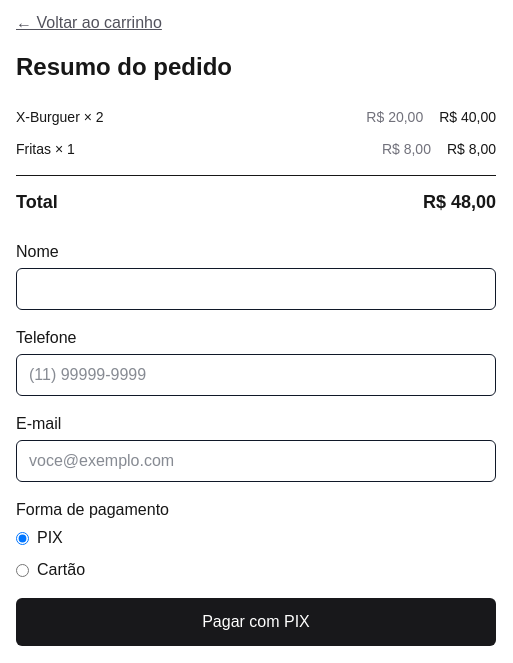
CheckoutPage › applies partial phone mask while typing
In the field labelled "Telefone": (256,375) [16,354,496,396], type "119"
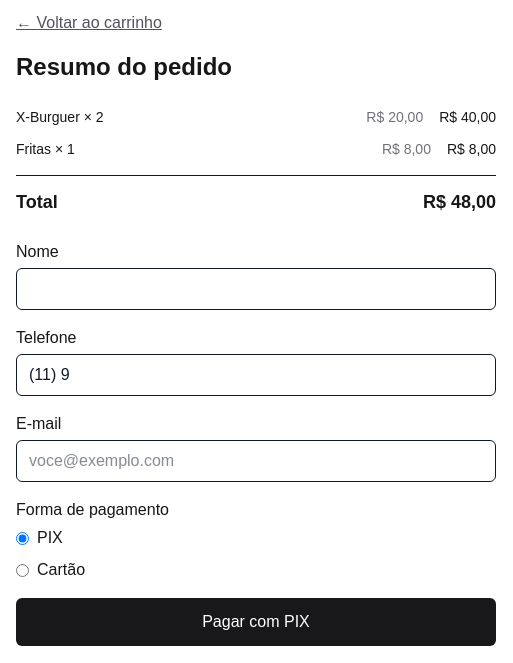
expect the field labelled "Telefone" holds "(11) 9": met, box [16,354,496,396]
